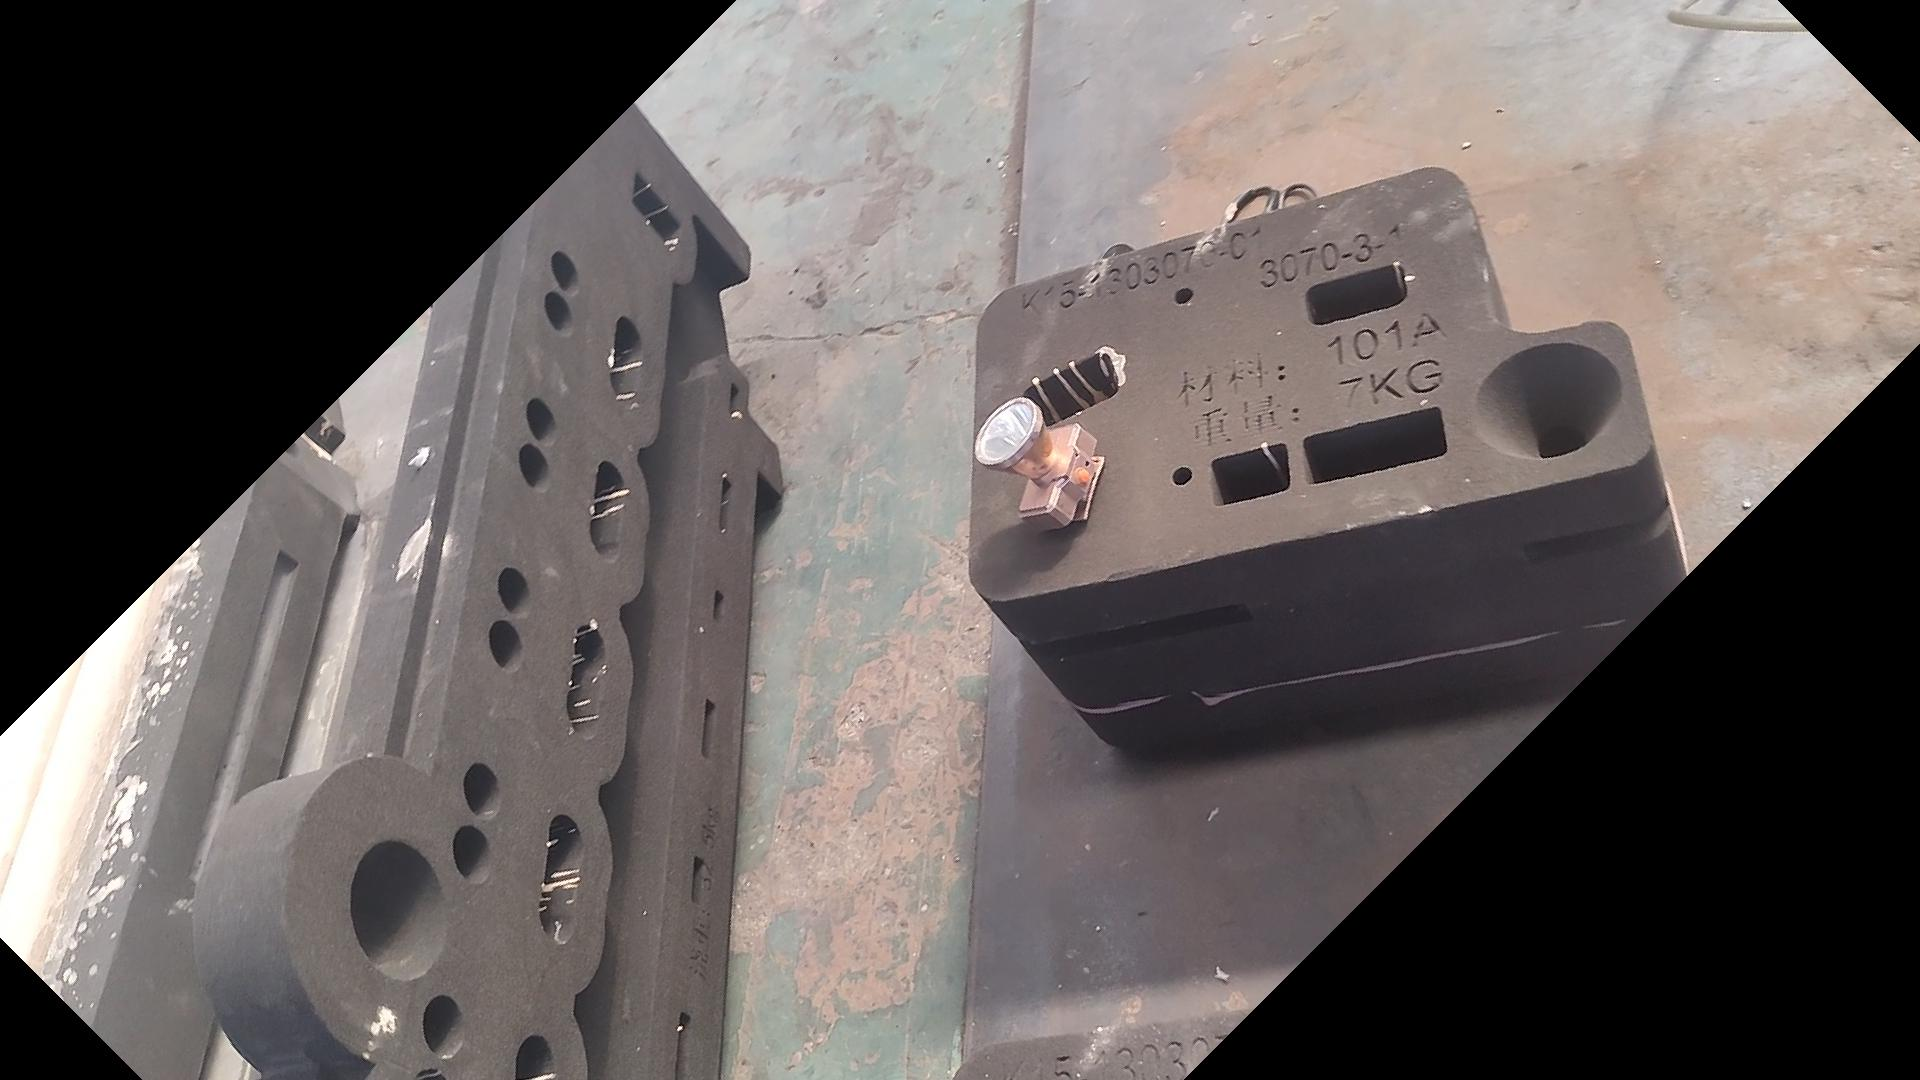pouring hole: (1472, 342, 1621, 459), (349, 840, 446, 980)
